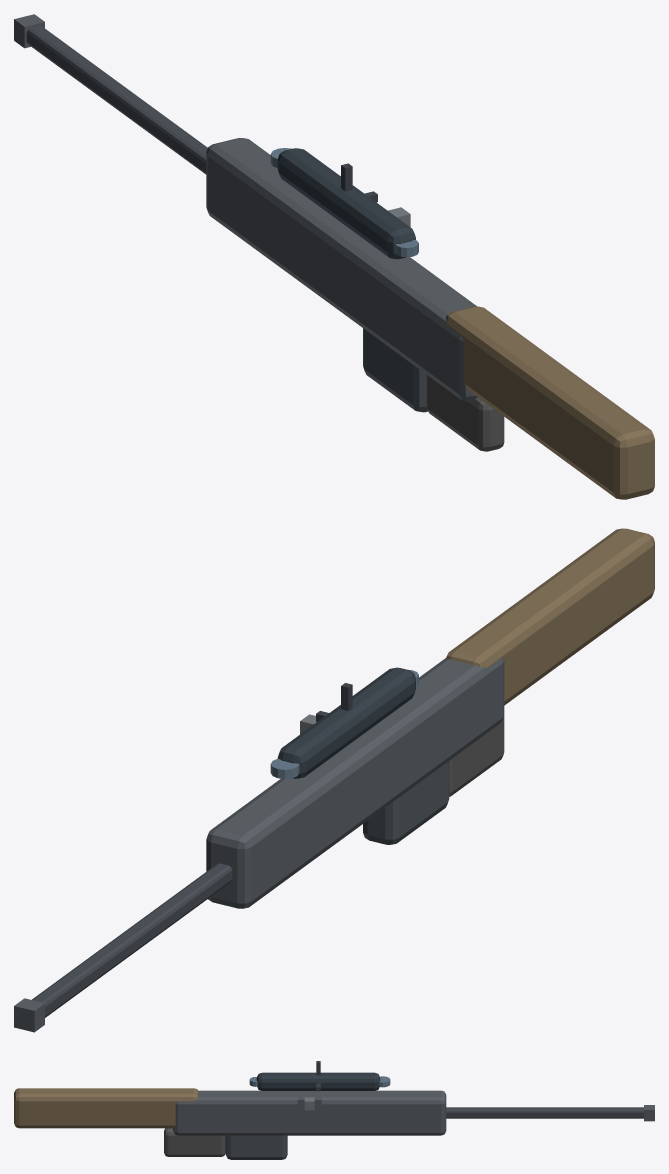
The model's file is weapon_awp.glb.
3 views of the same model, one above another, from view 1: azimuth 30°, elevation 25°; view 2: azimuth 150°, elevation 25°; view 3: azimuth 270°, elevation 25° (orthographic). The views are drawn at different scales.
Visible parts, largest first — view 1: AWP_Receiver, AWP_Stock, AWP_Scope, AWP_Barrel, AWP_Grip, AWP_Mag; view 2: AWP_Receiver, AWP_Stock, AWP_Scope, AWP_Barrel, AWP_Mag, AWP_Grip, AWP_Muzzle; view 3: AWP_Receiver, AWP_Stock, AWP_Barrel, AWP_Scope, AWP_Mag, AWP_Grip, AWP_Muzzle.
Boxes of the visible parts, box(x1,y1,x2,y2) form: AWP_Receiver: box(206, 138, 477, 401); AWP_Stock: box(446, 306, 654, 499); AWP_Scope: box(277, 148, 415, 259); AWP_Barrel: box(26, 25, 207, 174); AWP_Grip: box(426, 374, 504, 451); AWP_Mag: box(363, 328, 428, 412); AWP_Receiver: box(206, 657, 504, 908); AWP_Stock: box(446, 528, 654, 705); AWP_Scope: box(277, 667, 415, 778); AWP_Barrel: box(32, 863, 232, 1017); AWP_Mag: box(363, 761, 449, 844); AWP_Grip: box(449, 715, 504, 796); AWP_Muzzle: box(14, 998, 44, 1032); AWP_Receiver: box(173, 1090, 446, 1135); AWP_Stock: box(14, 1088, 198, 1128); AWP_Barrel: box(446, 1107, 643, 1118); AWP_Scope: box(256, 1072, 380, 1090); AWP_Mag: box(225, 1135, 287, 1159); AWP_Grip: box(164, 1128, 225, 1156); AWP_Muzzle: box(644, 1105, 654, 1121).
Size of the model in its own units: 0.099 by 0.2385 by 1.45.
